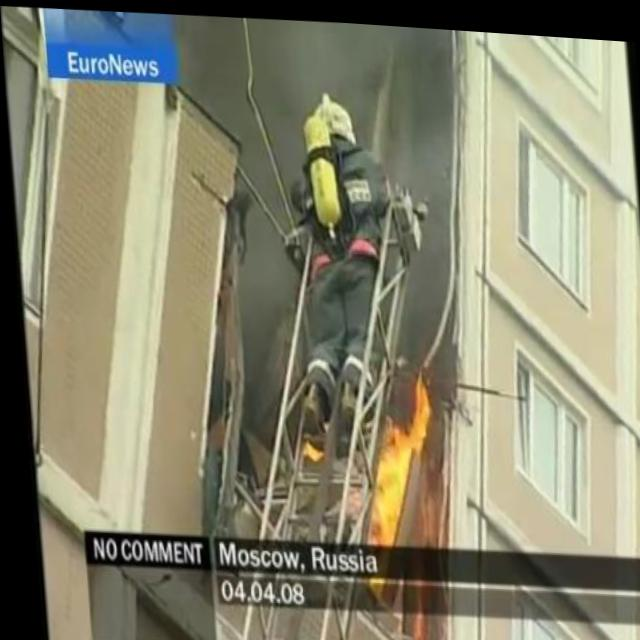fire: (350, 364, 438, 542), (294, 432, 319, 459)
